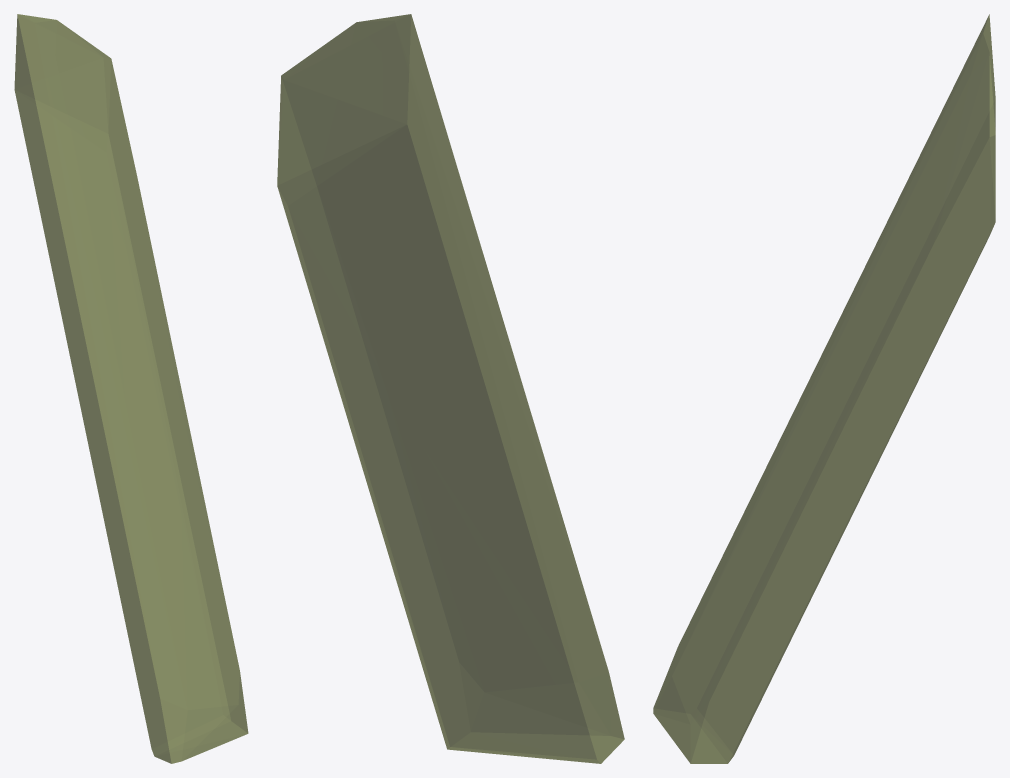
The picture shows the model from 3 angles, left to right: view 1: azimuth 30°, elevation 25°; view 2: azimuth 150°, elevation 25°; view 3: azimuth 270°, elevation 25°; orthographic projection. The views are drawn at different scales.
Parts seen in each view (by area): view 1: Shape_IndexedFaceSet.051_Shape_IndexedFaceSet.7802; view 2: Shape_IndexedFaceSet.051_Shape_IndexedFaceSet.7802; view 3: Shape_IndexedFaceSet.051_Shape_IndexedFaceSet.7802.
Part boxes in pixels (box(x1,y1,x2,y2)): Shape_IndexedFaceSet.051_Shape_IndexedFaceSet.7802: box(14, 14, 248, 763); Shape_IndexedFaceSet.051_Shape_IndexedFaceSet.7802: box(277, 14, 624, 763); Shape_IndexedFaceSet.051_Shape_IndexedFaceSet.7802: box(653, 14, 995, 763).
Bounding box in the file's own units: 0.0259 × 0.1693 × 0.0751.
